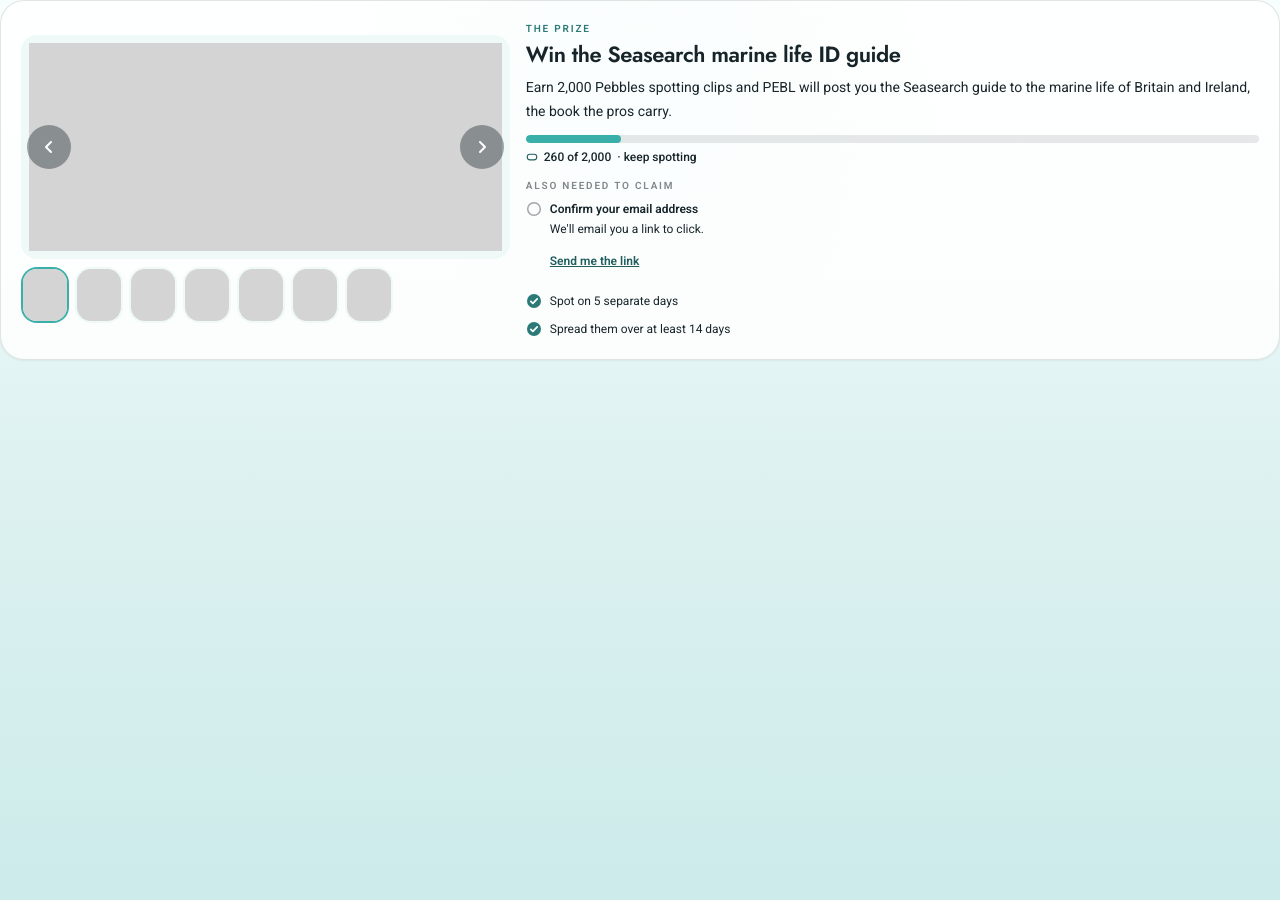
Test case: PrizeCard › sends a confirmation link from the checklist and reports it in place
Click the button "Send me the link" at point(595, 261), box x1=550 y1=239 x2=639 y2=283
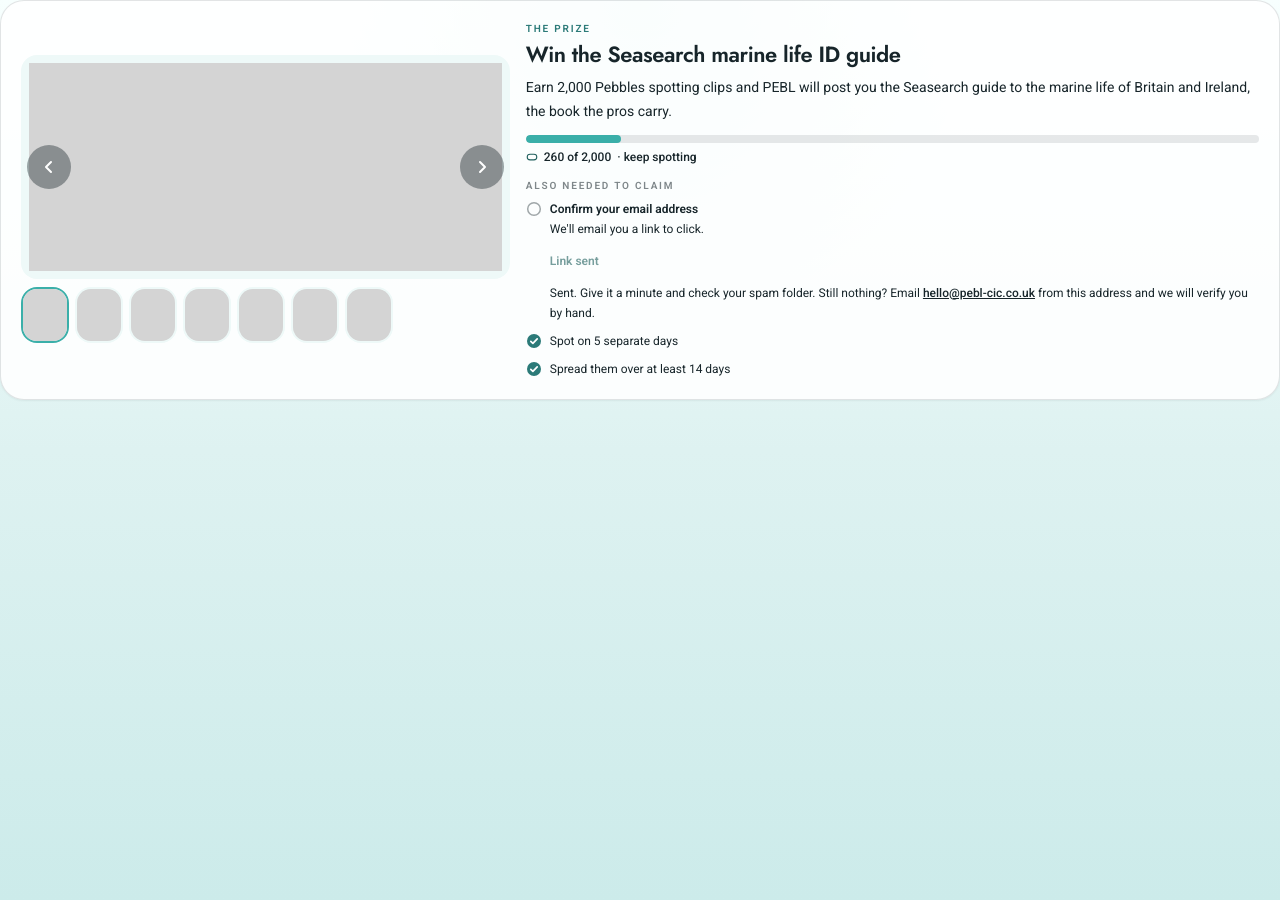
Check: the button "Link sent" is disabled, box x1=550 y1=239 x2=599 y2=283
Check: the text "check your spam folder" is shown, box x1=550 y1=286 x2=923 y2=300
